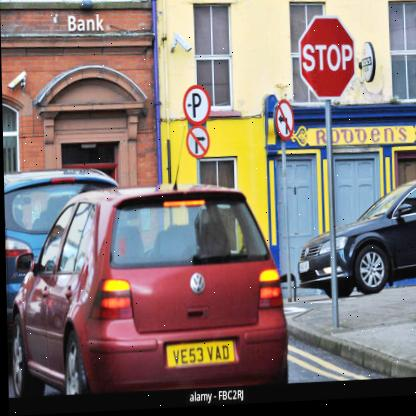No left turn: (270, 105, 298, 142)
